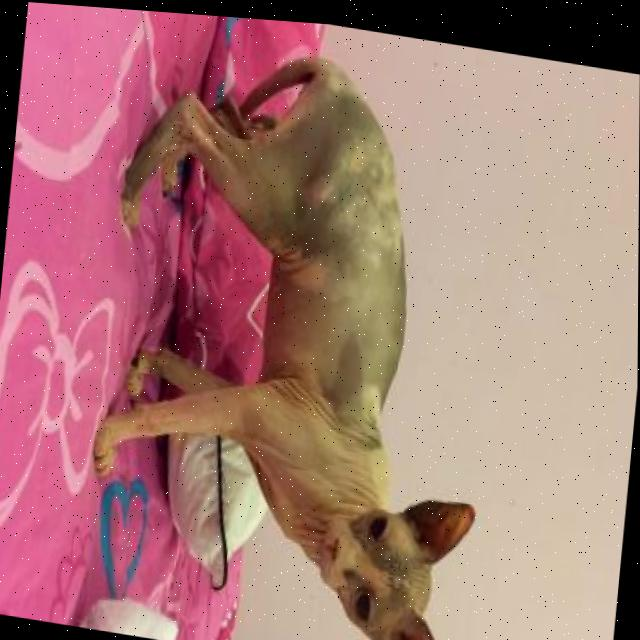Sphynx: (73, 14, 519, 640)
